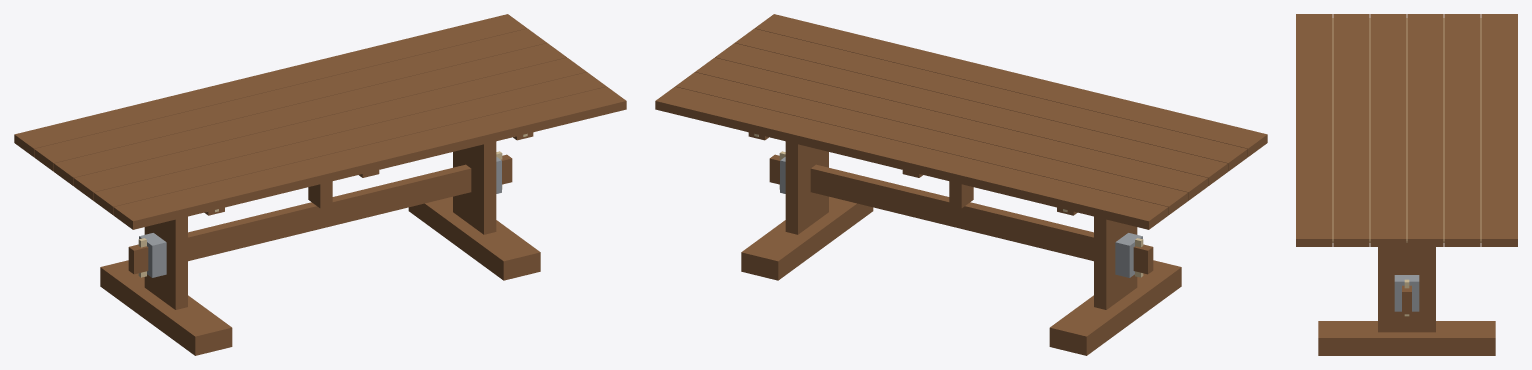
The picture shows the model from 3 angles, left to right: view 1: azimuth 30°, elevation 25°; view 2: azimuth 150°, elevation 25°; view 3: azimuth 270°, elevation 25°; orthographic projection. The views are drawn at different scales.
Visible parts, largest first — view 1: tabla_1, tabla_6, tabla_2, tabla_3, tabla_4, tabla_5, travesaño, pie_izq, pie_der, montante_der, montante_izq, collar_izq (+1 smaller); view 2: tabla_6, tabla_1, tabla_4, tabla_5, tabla_3, tabla_2, travesaño, pie_izq, pie_der, montante_der, montante_izq, collar_izq (+1 smaller); view 3: tabla_1, tabla_2, tabla_3, tabla_4, tabla_5, tabla_6, pie_der, montante_der, collar_der, lengüeta_1, lengüeta_2, lengüeta_3 (+3 smaller).
Part boxes in pixels (box(x1,y1,x2,y2)): tabla_1: box(113, 86, 626, 229); tabla_6: box(14, 14, 527, 156); tabla_2: box(93, 72, 606, 215); tabla_3: box(74, 57, 586, 200); tabla_4: box(54, 43, 566, 186); tabla_5: box(34, 28, 546, 171); travesaño: box(128, 154, 512, 274); pie_izq: box(100, 260, 232, 355); pie_der: box(408, 196, 540, 280); montante_der: box(453, 141, 496, 234); montante_izq: box(144, 216, 187, 309); collar_izq: box(139, 233, 166, 277); tabla_6: box(655, 86, 1168, 229); tabla_1: box(754, 14, 1267, 156); tabla_4: box(695, 57, 1207, 200); tabla_5: box(675, 72, 1188, 215); tabla_3: box(715, 43, 1227, 186); tabla_2: box(735, 28, 1247, 171); travesaño: box(769, 154, 1153, 274); pie_izq: box(1049, 260, 1181, 355); pie_der: box(741, 196, 873, 280); montante_der: box(785, 141, 828, 234); montante_izq: box(1094, 216, 1137, 309); collar_izq: box(1115, 233, 1142, 277); tabla_1: box(1296, 14, 1332, 246); tabla_2: box(1333, 14, 1369, 246); tabla_3: box(1370, 14, 1406, 246); tabla_4: box(1407, 14, 1443, 246); tabla_5: box(1444, 14, 1480, 246); tabla_6: box(1481, 14, 1517, 246); pie_der: box(1318, 321, 1495, 355); montante_der: box(1378, 243, 1435, 332); collar_der: box(1394, 275, 1419, 311); lengüeta_1: box(1332, 18, 1333, 242); lengüeta_2: box(1369, 18, 1370, 242); lengüeta_3: box(1406, 18, 1407, 242).
Size of the model in its own units: 2.4 by 0.75 by 1.
